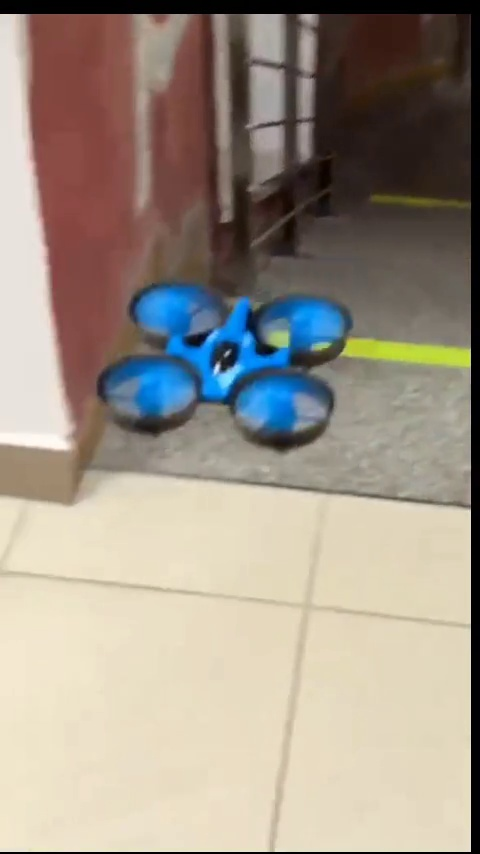drone: (102, 288, 353, 449)
